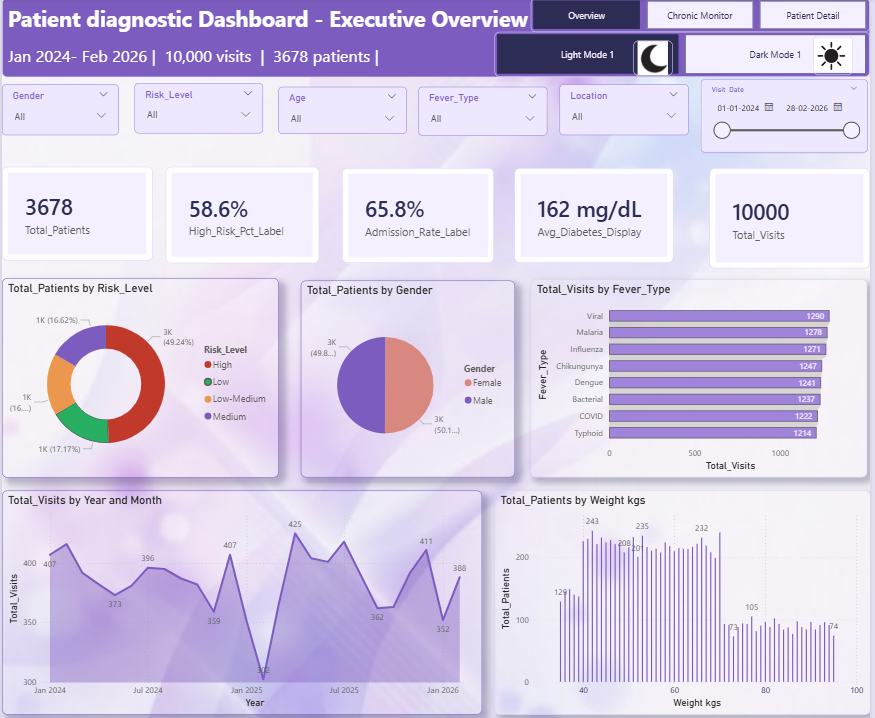

This screenshot's page, from the dashboard's own definition file:
{"tool":"powerbi","page":{"name":"Overview","canvas":[1280,1100],"ordinal":0},"visuals":[{"type":"textbox","box":[0,0,1280,117.1],"z":1000},{"type":"slicer","fields":{"Values":["Patient_Symptoms.Gender"]},"box":[0,126.7,171.7,75],"z":2000},{"type":"slicer","fields":{"Values":["Fever_Type_Profile.Risk_Level"]},"box":[194.9,126.2,189.4,74.1],"z":3000},{"type":"slicer","fields":{"Values":["Patient_Symptoms.Visit_Date"]},"box":[1030,120,246,108],"z":4000},{"type":"slicer","fields":{"Values":["Patient_Symptoms.Age"]},"box":[407.5,130.4,189.4,70],"z":5000},{"type":"slicer","fields":{"Values":["Fever_Type_Profile.Fever_Type"]},"box":[613.3,130,190,71.7],"z":6000},{"type":"slicer","fields":{"Values":["Patient_Symptoms.Location"]},"box":[821.7,126.7,190,75],"z":7000},{"type":"cardVisual","fields":{"Data":["Blood_Test_Results.Total_Patients"]},"box":[0,248,222,138],"z":8000},{"type":"cardVisual","fields":{"Data":["Blood_Test_Results.High_Risk_Pct_Label"]},"box":[242,248,226,142],"z":9000},{"type":"cardVisual","fields":{"Data":["Blood_Test_Results.Admission_Rate_Label"]},"box":[502,250,224,140],"z":10000},{"type":"cardVisual","fields":{"Data":["Blood_Test_Results.Avg_Diabetes"]},"box":[756,250,234,140],"z":11000},{"type":"cardVisual","fields":{"Data":["Blood_Test_Results.Total_Visits"]},"box":[1044,250,236,148],"z":12000},{"type":"donutChart","fields":{"Category":["Fever_Type_Profile.Risk_Level"],"Y":["Blood_Test_Results.Total_Patients"]},"box":[0,412,408,294],"z":13000},{"type":"pieChart","fields":{"Category":["Patient_Symptoms.Gender"],"Y":["Blood_Test_Results.Total_Patients"]},"box":[440,416,316,290],"z":14000},{"type":"barChart","fields":{"Category":["Fever_Type_Profile.Fever_Type"],"Y":["Blood_Test_Results.Total_Visits"]},"box":[780,414,496,292],"z":15000},{"type":"areaChart","fields":{"Category":["Blood_Test_Results.Test_Date.Variation.Date Hierarchy.Year","Blood_Test_Results.Test_Date.Variation.Date Hierarchy.Month"],"Y":["Blood_Test_Results.Total_Visits"]},"box":[0,726,708,330],"z":16000},{"type":"columnChart","fields":{"Y":["Blood_Test_Results.Total_Patients"],"Category":["Patient_Symptoms.Weight kgs"]},"box":[726,726,554,330],"z":17000},{"type":"bookmarkNavigator","box":[726.7,50,553.3,66.7],"z":18000},{"type":"image","title":"Icon_Sun","box":[1196,56,58,58],"z":19000},{"type":"image","title":"Icon_Moon","box":[930,62,58,52],"z":20000},{"type":"pageNavigator","box":[780,0,500,50],"z":21000}]}

Visuals, with their boxes on the page's 1280x1100 design canvas (x1, y1, x2, y2). These are canvas units, not pixel positions in the 875x718 screenshot, which may show the page scaled, cropped or inside an application window:
textbox: 0, 0, 1280, 117
slicer - Patient_Symptoms.Gender: 0, 127, 172, 202
slicer - Fever_Type_Profile.Risk_Level: 195, 126, 384, 200
slicer - Patient_Symptoms.Visit_Date: 1030, 120, 1276, 228
slicer - Patient_Symptoms.Age: 408, 130, 597, 200
slicer - Fever_Type_Profile.Fever_Type: 613, 130, 803, 202
slicer - Patient_Symptoms.Location: 822, 127, 1012, 202
cardVisual - Blood_Test_Results.Total_Patients: 0, 248, 222, 386
cardVisual - Blood_Test_Results.High_Risk_Pct_Label: 242, 248, 468, 390
cardVisual - Blood_Test_Results.Admission_Rate_Label: 502, 250, 726, 390
cardVisual - Blood_Test_Results.Avg_Diabetes: 756, 250, 990, 390
cardVisual - Blood_Test_Results.Total_Visits: 1044, 250, 1280, 398
donutChart - Fever_Type_Profile.Risk_Level x Blood_Test_Results.Total_Patients: 0, 412, 408, 706
pieChart - Patient_Symptoms.Gender x Blood_Test_Results.Total_Patients: 440, 416, 756, 706
barChart - Fever_Type_Profile.Fever_Type x Blood_Test_Results.Total_Visits: 780, 414, 1276, 706
areaChart - Blood_Test_Results.Test_Date.Variation.Date Hierarchy.Year x Blood_Test_Results.Test_Date.Variation.Date Hierarchy.Month: 0, 726, 708, 1056
columnChart - Blood_Test_Results.Total_Patients x Patient_Symptoms.Weight kgs: 726, 726, 1280, 1056
bookmarkNavigator: 727, 50, 1280, 117
"Icon_Sun" image: 1196, 56, 1254, 114
"Icon_Moon" image: 930, 62, 988, 114
pageNavigator: 780, 0, 1280, 50
